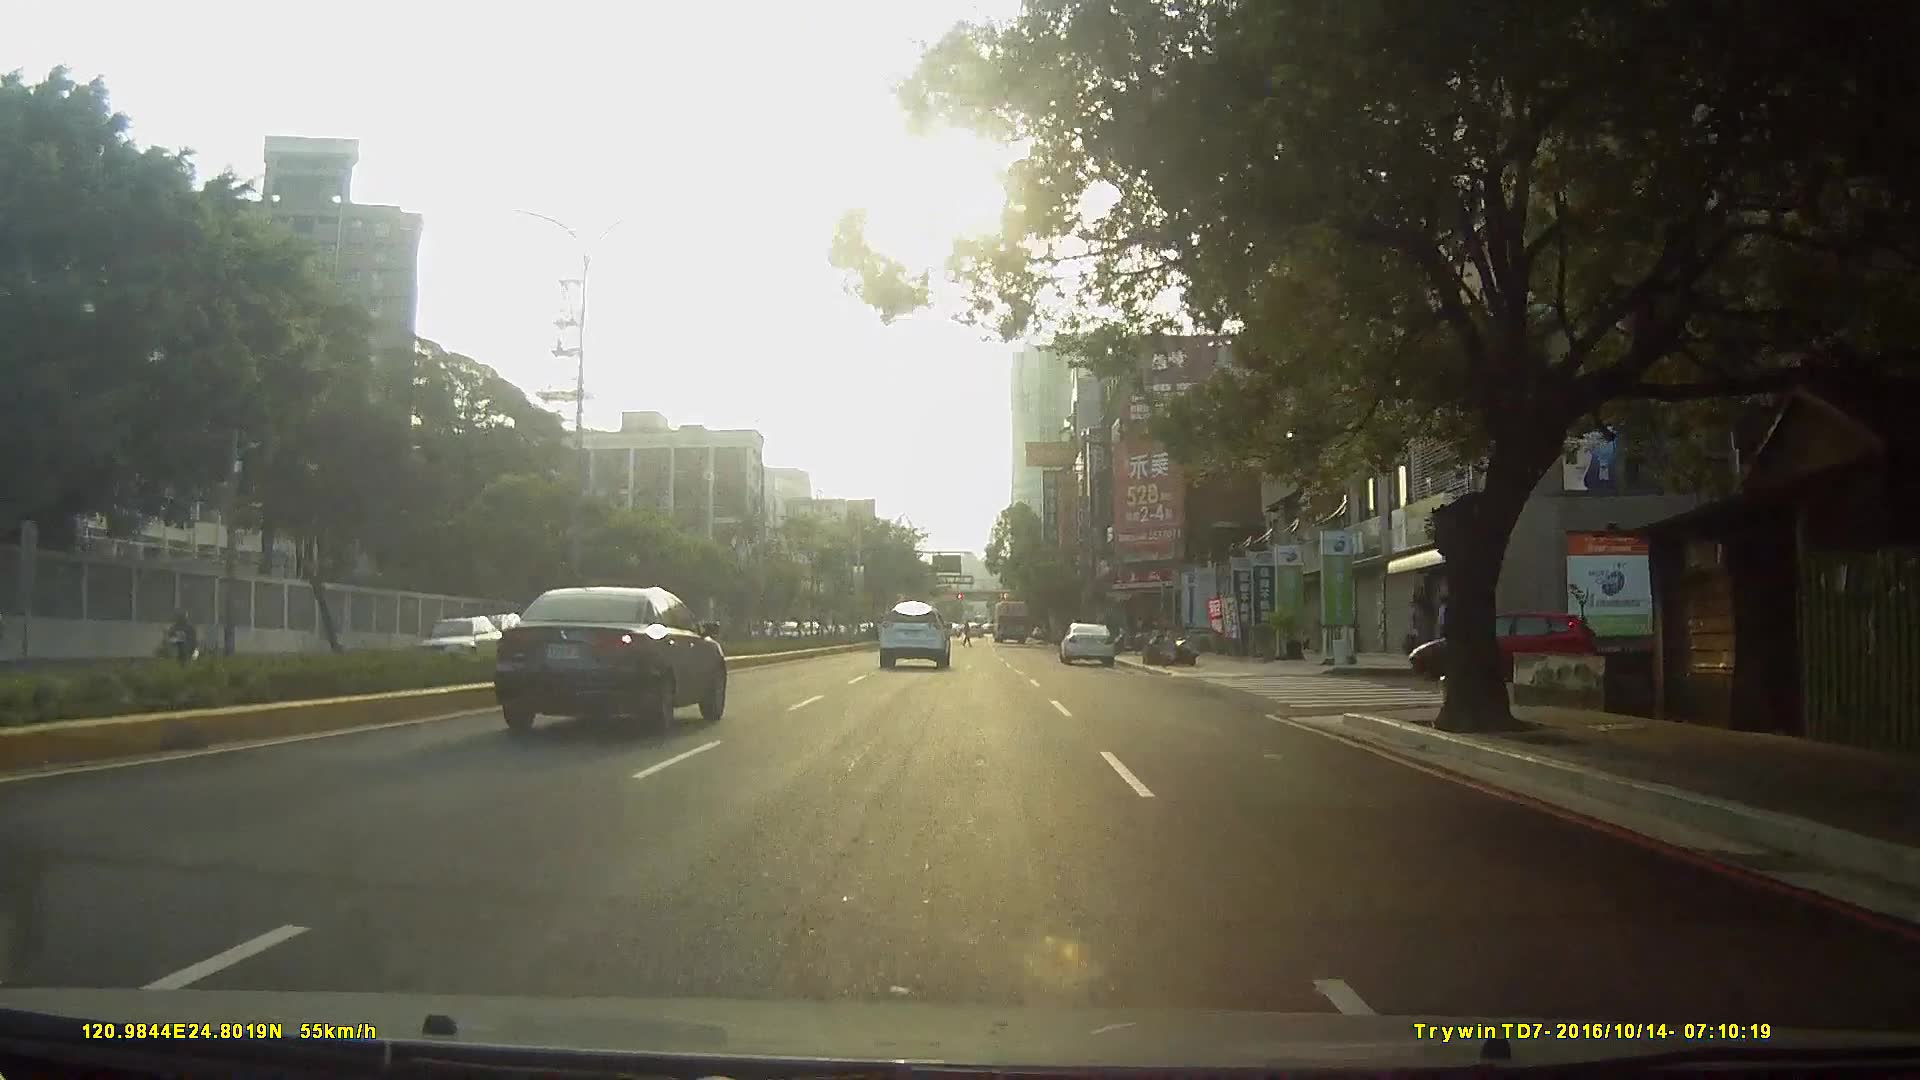pedestrian: (1437, 600, 1459, 665)
rider: (156, 612, 204, 680)
vehicle: (496, 589, 731, 737), (1410, 600, 1614, 687), (408, 620, 517, 684), (878, 604, 951, 673), (1058, 624, 1118, 669), (988, 601, 1032, 648)
